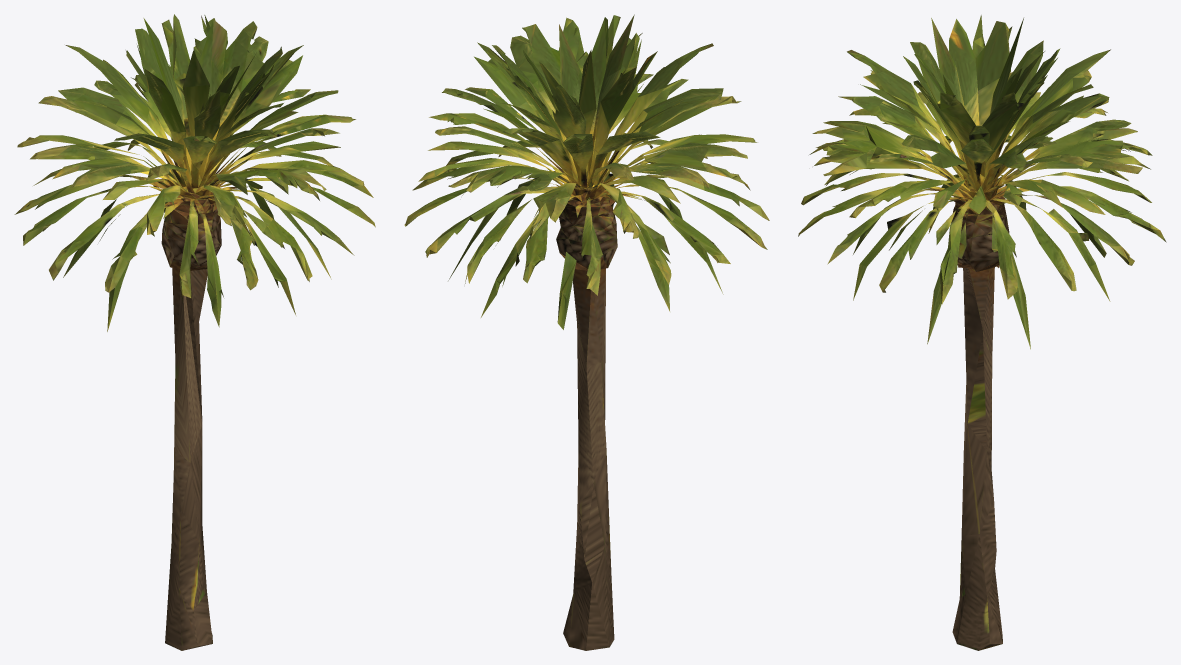
The picture shows the model from 3 angles, left to right: view 1: azimuth 30°, elevation 25°; view 2: azimuth 150°, elevation 25°; view 3: azimuth 270°, elevation 25°; orthographic projection.
Parts seen in each view (by area): view 1: palm; view 2: palm; view 3: palm.
Boxes of the visible parts, <box> form: palm: <box>14,14,375,650</box>; palm: <box>404,14,769,650</box>; palm: <box>798,15,1166,650</box>.
Bounding box in the file's own units: 1.03 × 1.88 × 1.02.
1 material, 1 textured.
